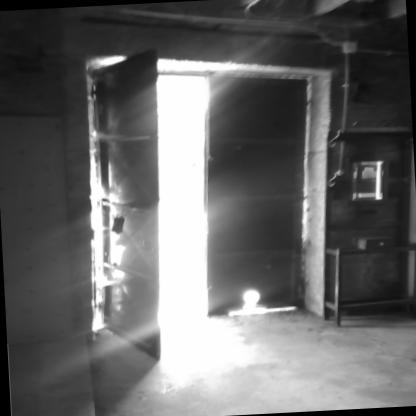semi: (134, 45, 356, 341)
